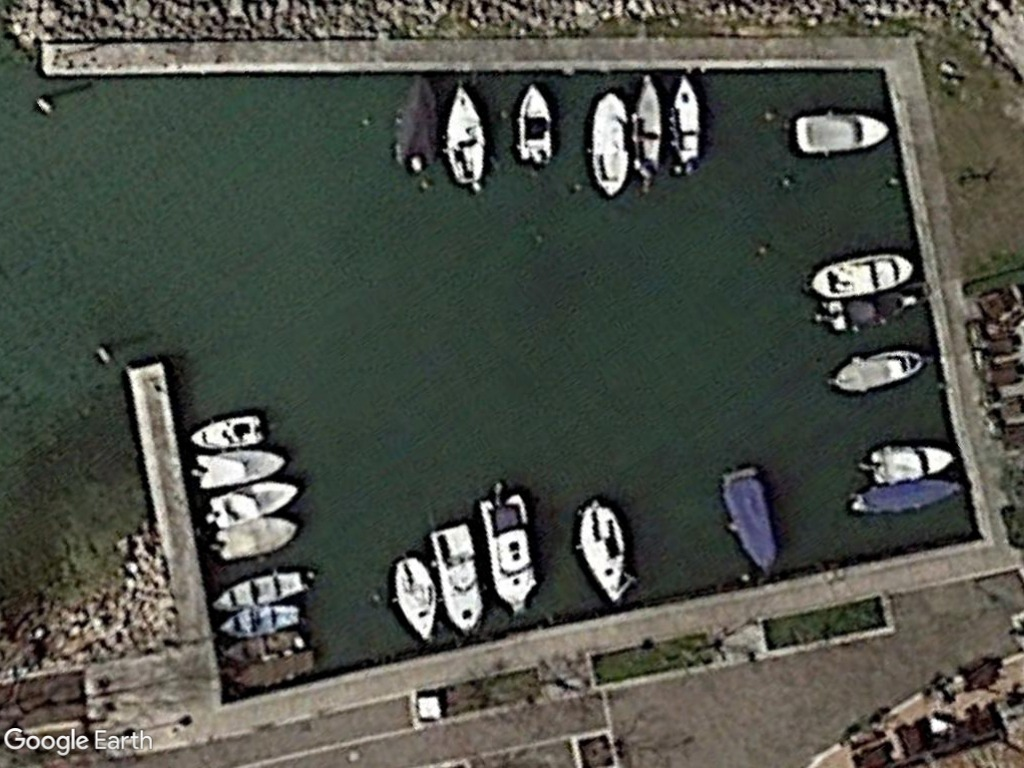boat: (475, 491, 538, 612), (717, 465, 781, 574), (425, 516, 484, 634), (569, 498, 634, 604), (435, 80, 488, 186), (807, 251, 917, 301), (204, 473, 301, 528), (584, 88, 631, 200), (786, 110, 894, 157), (190, 443, 291, 491), (829, 344, 924, 395), (387, 551, 440, 642), (506, 78, 558, 169), (210, 565, 307, 613), (864, 442, 961, 487), (216, 512, 303, 562), (629, 72, 662, 196), (665, 70, 700, 179), (210, 603, 303, 642), (187, 410, 264, 452)
